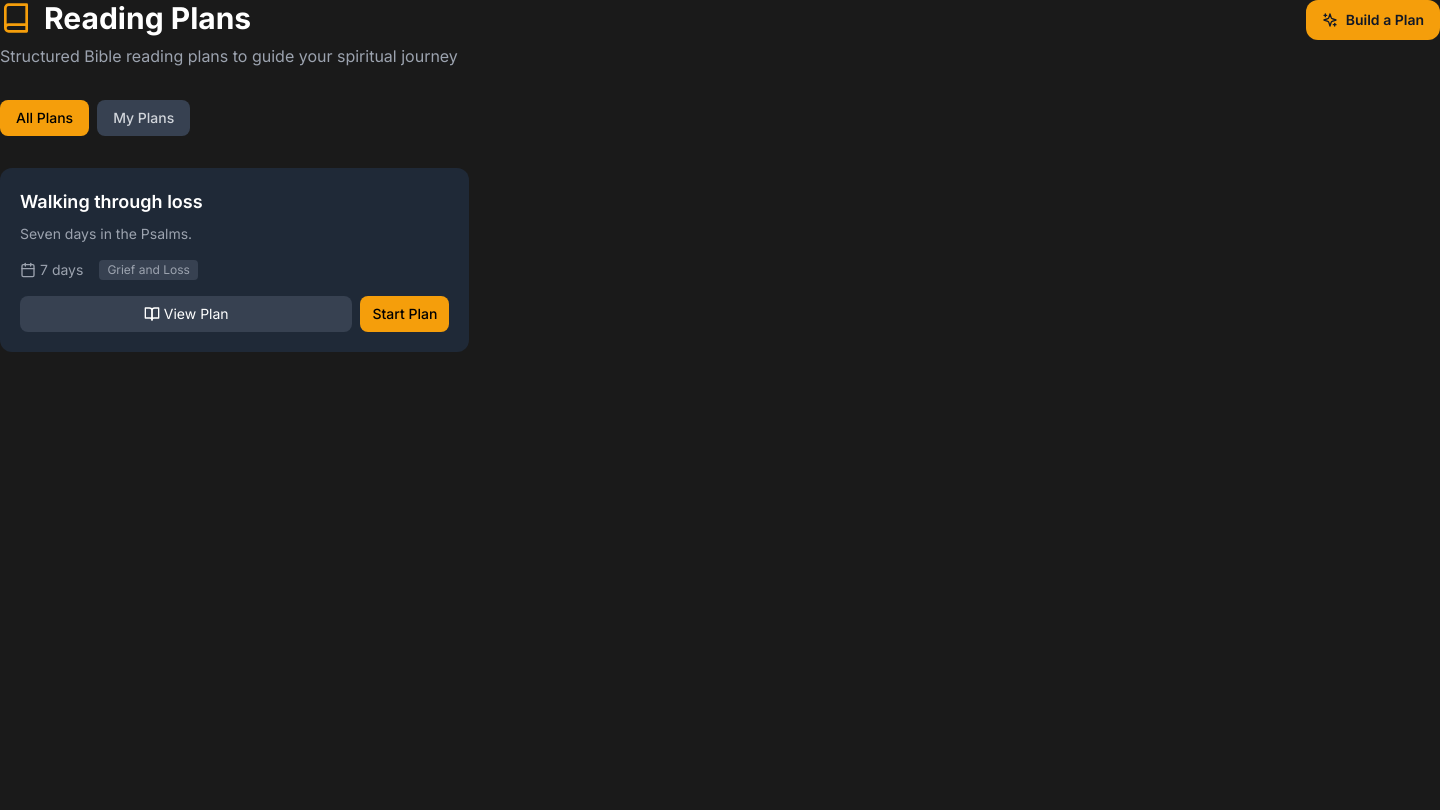
Scenario: PlansPage categories › the builder falls back to General and says so when the list cannot be loaded
Click the button "Build a Plan" at point(1373, 20), box [1306,0,1439,40]
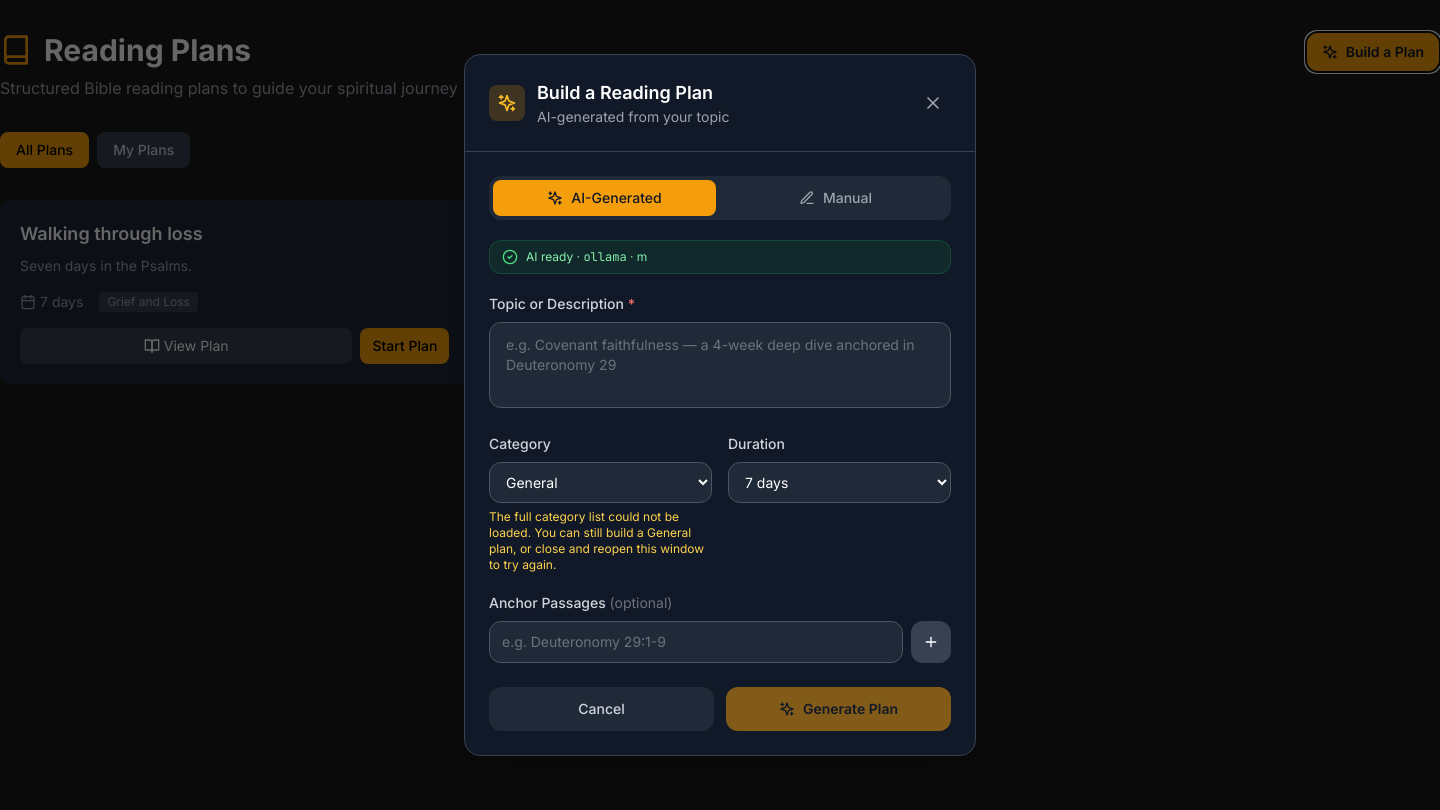
Now the text "full category list could not be loaded" is shown, box [489,509,704,572]
